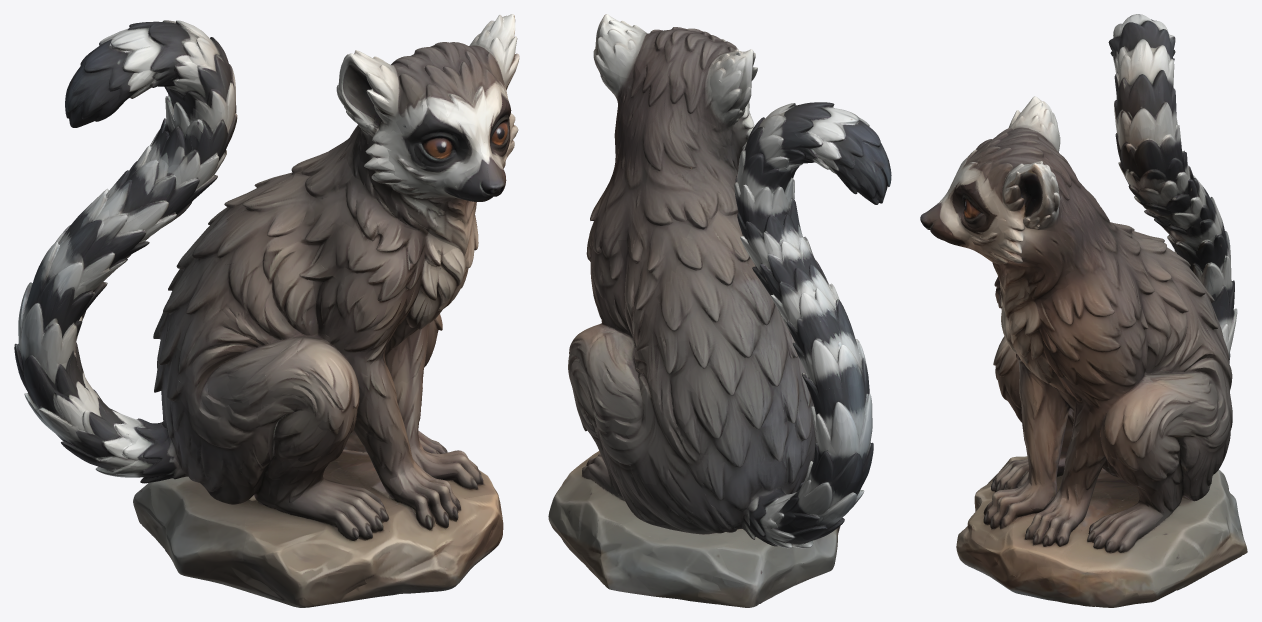
File: lemur.glb
3 renders of one model, left to right at view 1: azimuth 30°, elevation 25°; view 2: azimuth 150°, elevation 25°; view 3: azimuth 270°, elevation 25°, orthographic. The views are drawn at different scales.
Parts seen in each view (by area): view 1: output_unwrapped; view 2: output_unwrapped; view 3: output_unwrapped.
Part boxes in pixels (x1=…): output_unwrapped: x1=14, y1=14, x2=519, y2=607; output_unwrapped: x1=548, y1=14, x2=891, y2=607; output_unwrapped: x1=920, y1=14, x2=1247, y2=607.
Size of the model in its own units: 1.48 by 1.9 by 1.23.
Materials: 1 (1 with a texture image).
